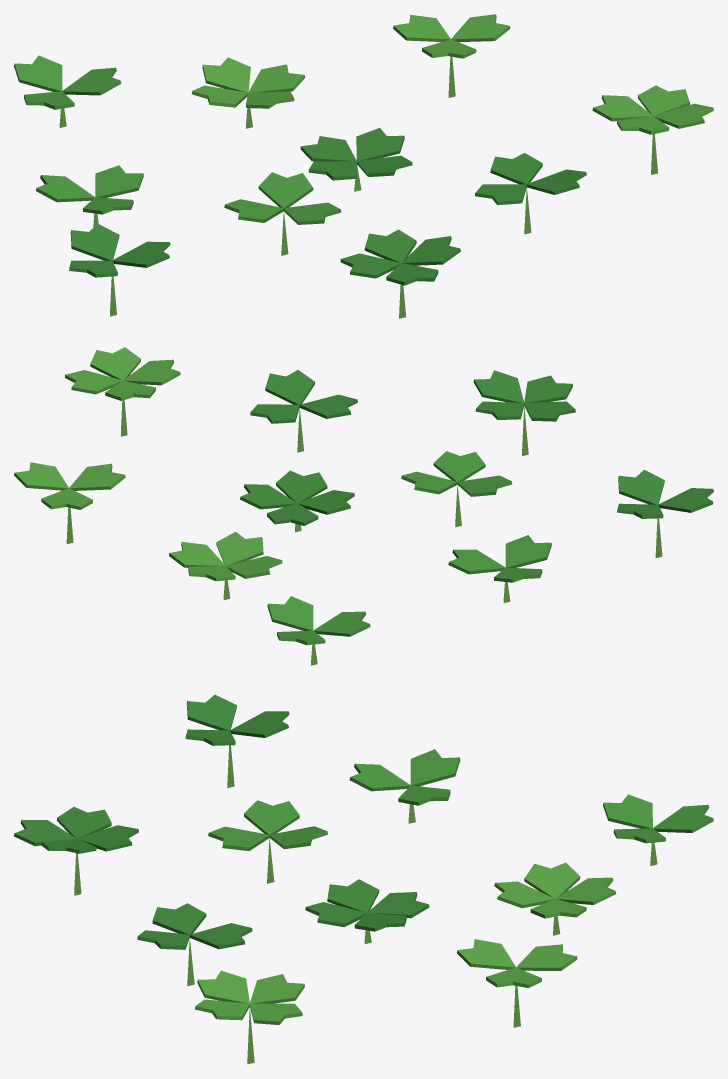
Rendered from prop-clover.glb.
3 views of the same model, one above another, from view 1: azimuth 30°, elevation 25°; view 2: azimuth 150°, elevation 25°; view 3: azimuth 270°, elevation 25° (orthographic). The views are drawn at different scales.
Visible parts, largest first — view 1: Clover; view 2: Clover; view 3: Clover.
Boxes of the visible parts, bbox=[...] form: Clover: bbox=[14, 14, 713, 318]; Clover: bbox=[14, 347, 713, 665]; Clover: bbox=[14, 694, 713, 1064].
Size of the model in its own units: 1.26 by 0.1257 by 1.15.
